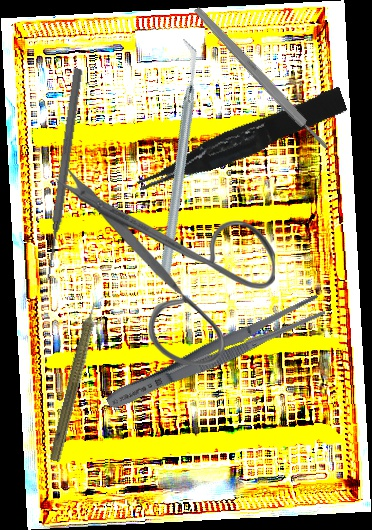Chopper: (70, 37, 282, 283)
Dressing Forceps: (101, 289, 328, 418)
Handpiece: (46, 289, 109, 464)
Iris Scissors: (55, 167, 275, 365)
Pusher: (41, 67, 85, 282)
Scalpel Handle: (192, 4, 331, 153)
Tissue Forceps: (130, 86, 351, 196)
